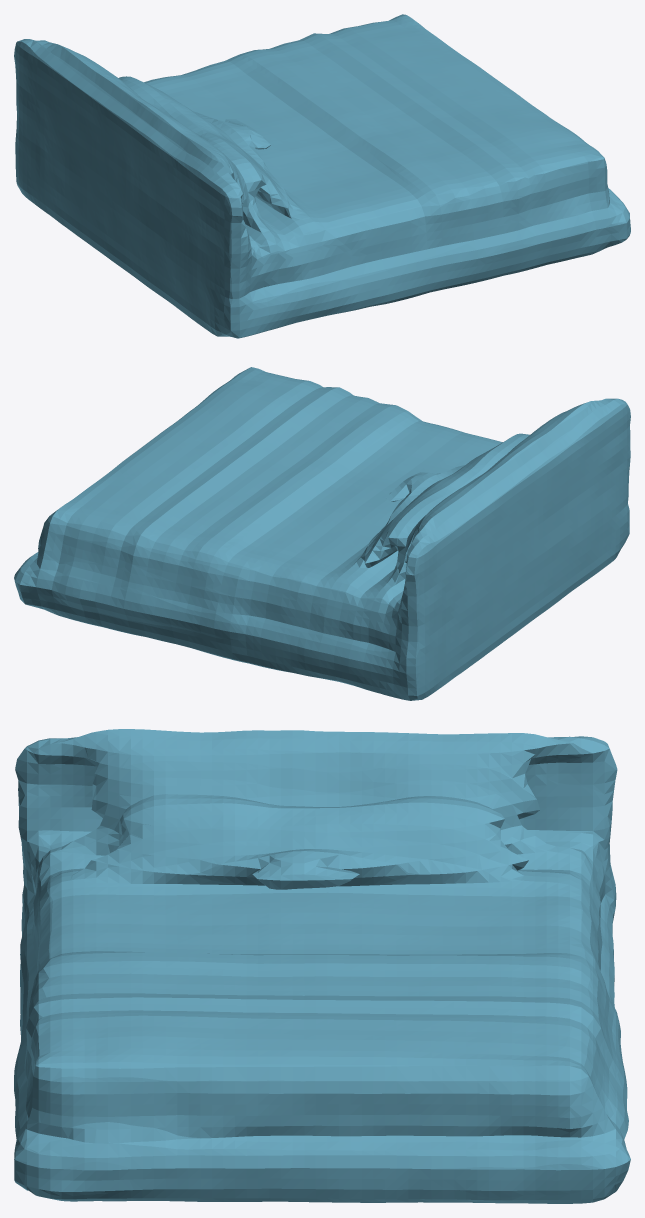
File: 000-bed.glb
3 renders of one model, top to bottom at view 1: azimuth 30°, elevation 25°; view 2: azimuth 150°, elevation 25°; view 3: azimuth 270°, elevation 25°, orthographic. The views are drawn at different scales.
Visible parts, largest first — view 1: room_bed; view 2: room_bed; view 3: room_bed.
Part boxes in pixels (x1,y1,x2,y2): room_bed: (14,14,630,338); room_bed: (14,367,630,700); room_bed: (14,729,630,1203).
Size of the model in its own units: 0.3509 by 0.1371 by 0.335.
